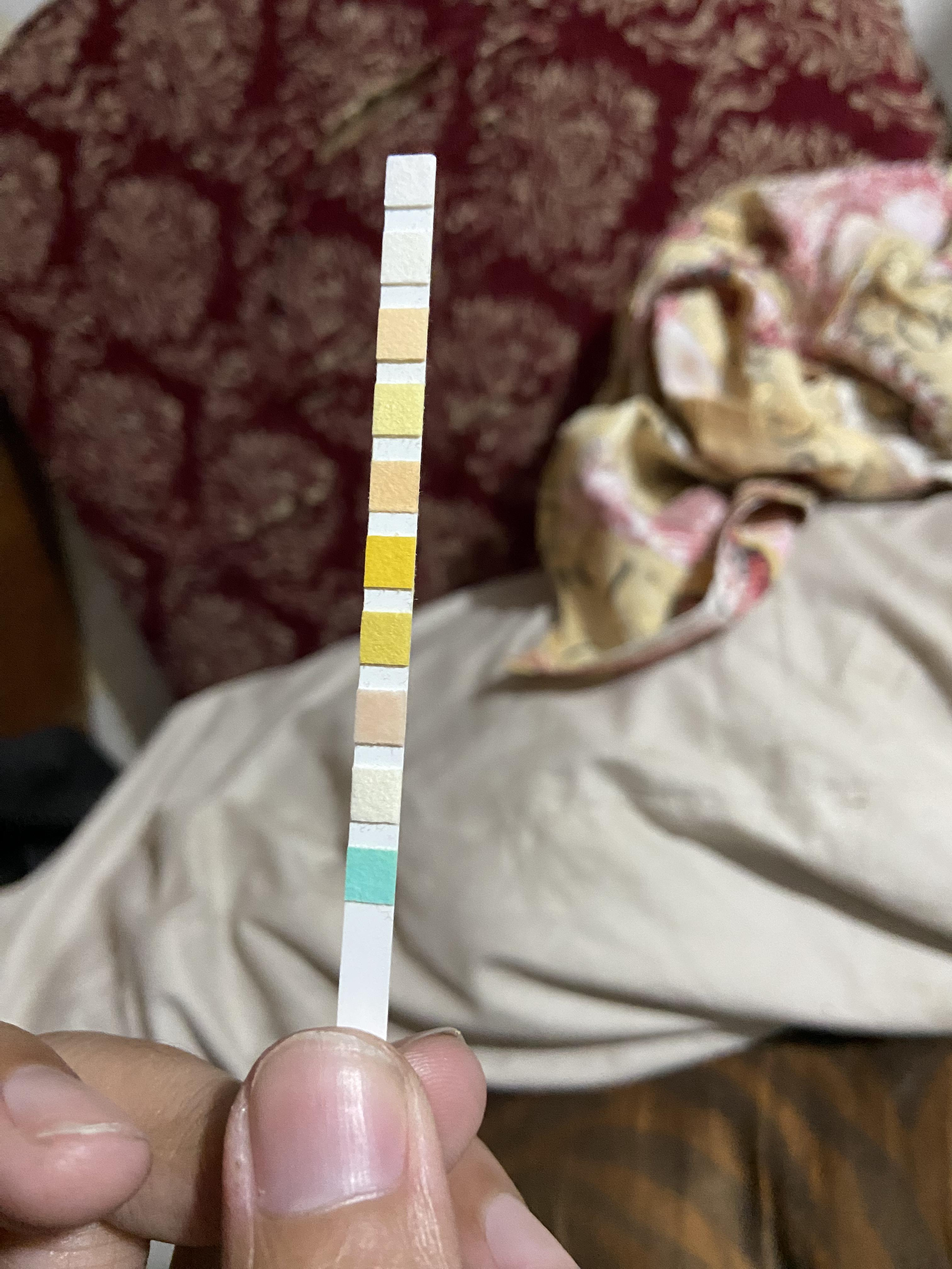Bilirubin: (352, 771, 399, 820)
Blood: (367, 537, 414, 587)
Glucose: (348, 851, 394, 901)
Ketone: (357, 692, 405, 744)
Leukocytes: (388, 157, 434, 204)
Nitrite: (383, 234, 429, 281)
Protein: (375, 386, 422, 434)
SpGravity: (362, 614, 410, 664)
Urobilinogen: (379, 310, 426, 359)
pH: (372, 462, 419, 511)
strip: (338, 154, 436, 1023)
